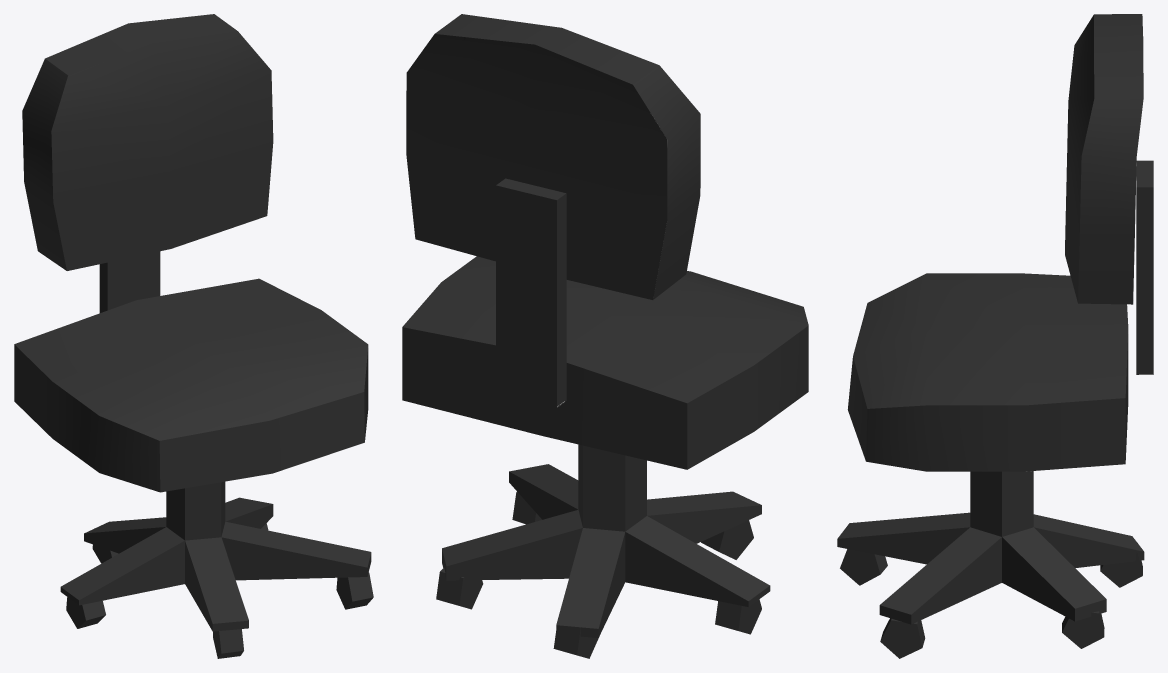
Rendered from chair.fbx.
The picture shows the model from 3 angles, left to right: view 1: azimuth 30°, elevation 25°; view 2: azimuth 150°, elevation 25°; view 3: azimuth 270°, elevation 25°; orthographic projection. The views are drawn at different scales.
Parts seen in each view (by area): view 1: chair1; view 2: chair1; view 3: chair1.
Boxes of the visible parts, x1,y1,x2,y2 form: chair1: (14, 14, 373, 658); chair1: (402, 14, 808, 658); chair1: (837, 14, 1153, 658).
Size of the model in its own units: 2.02 by 3.79 by 1.95.
